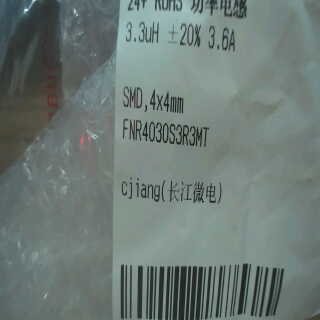3.3uH: (123, 14, 161, 55)
